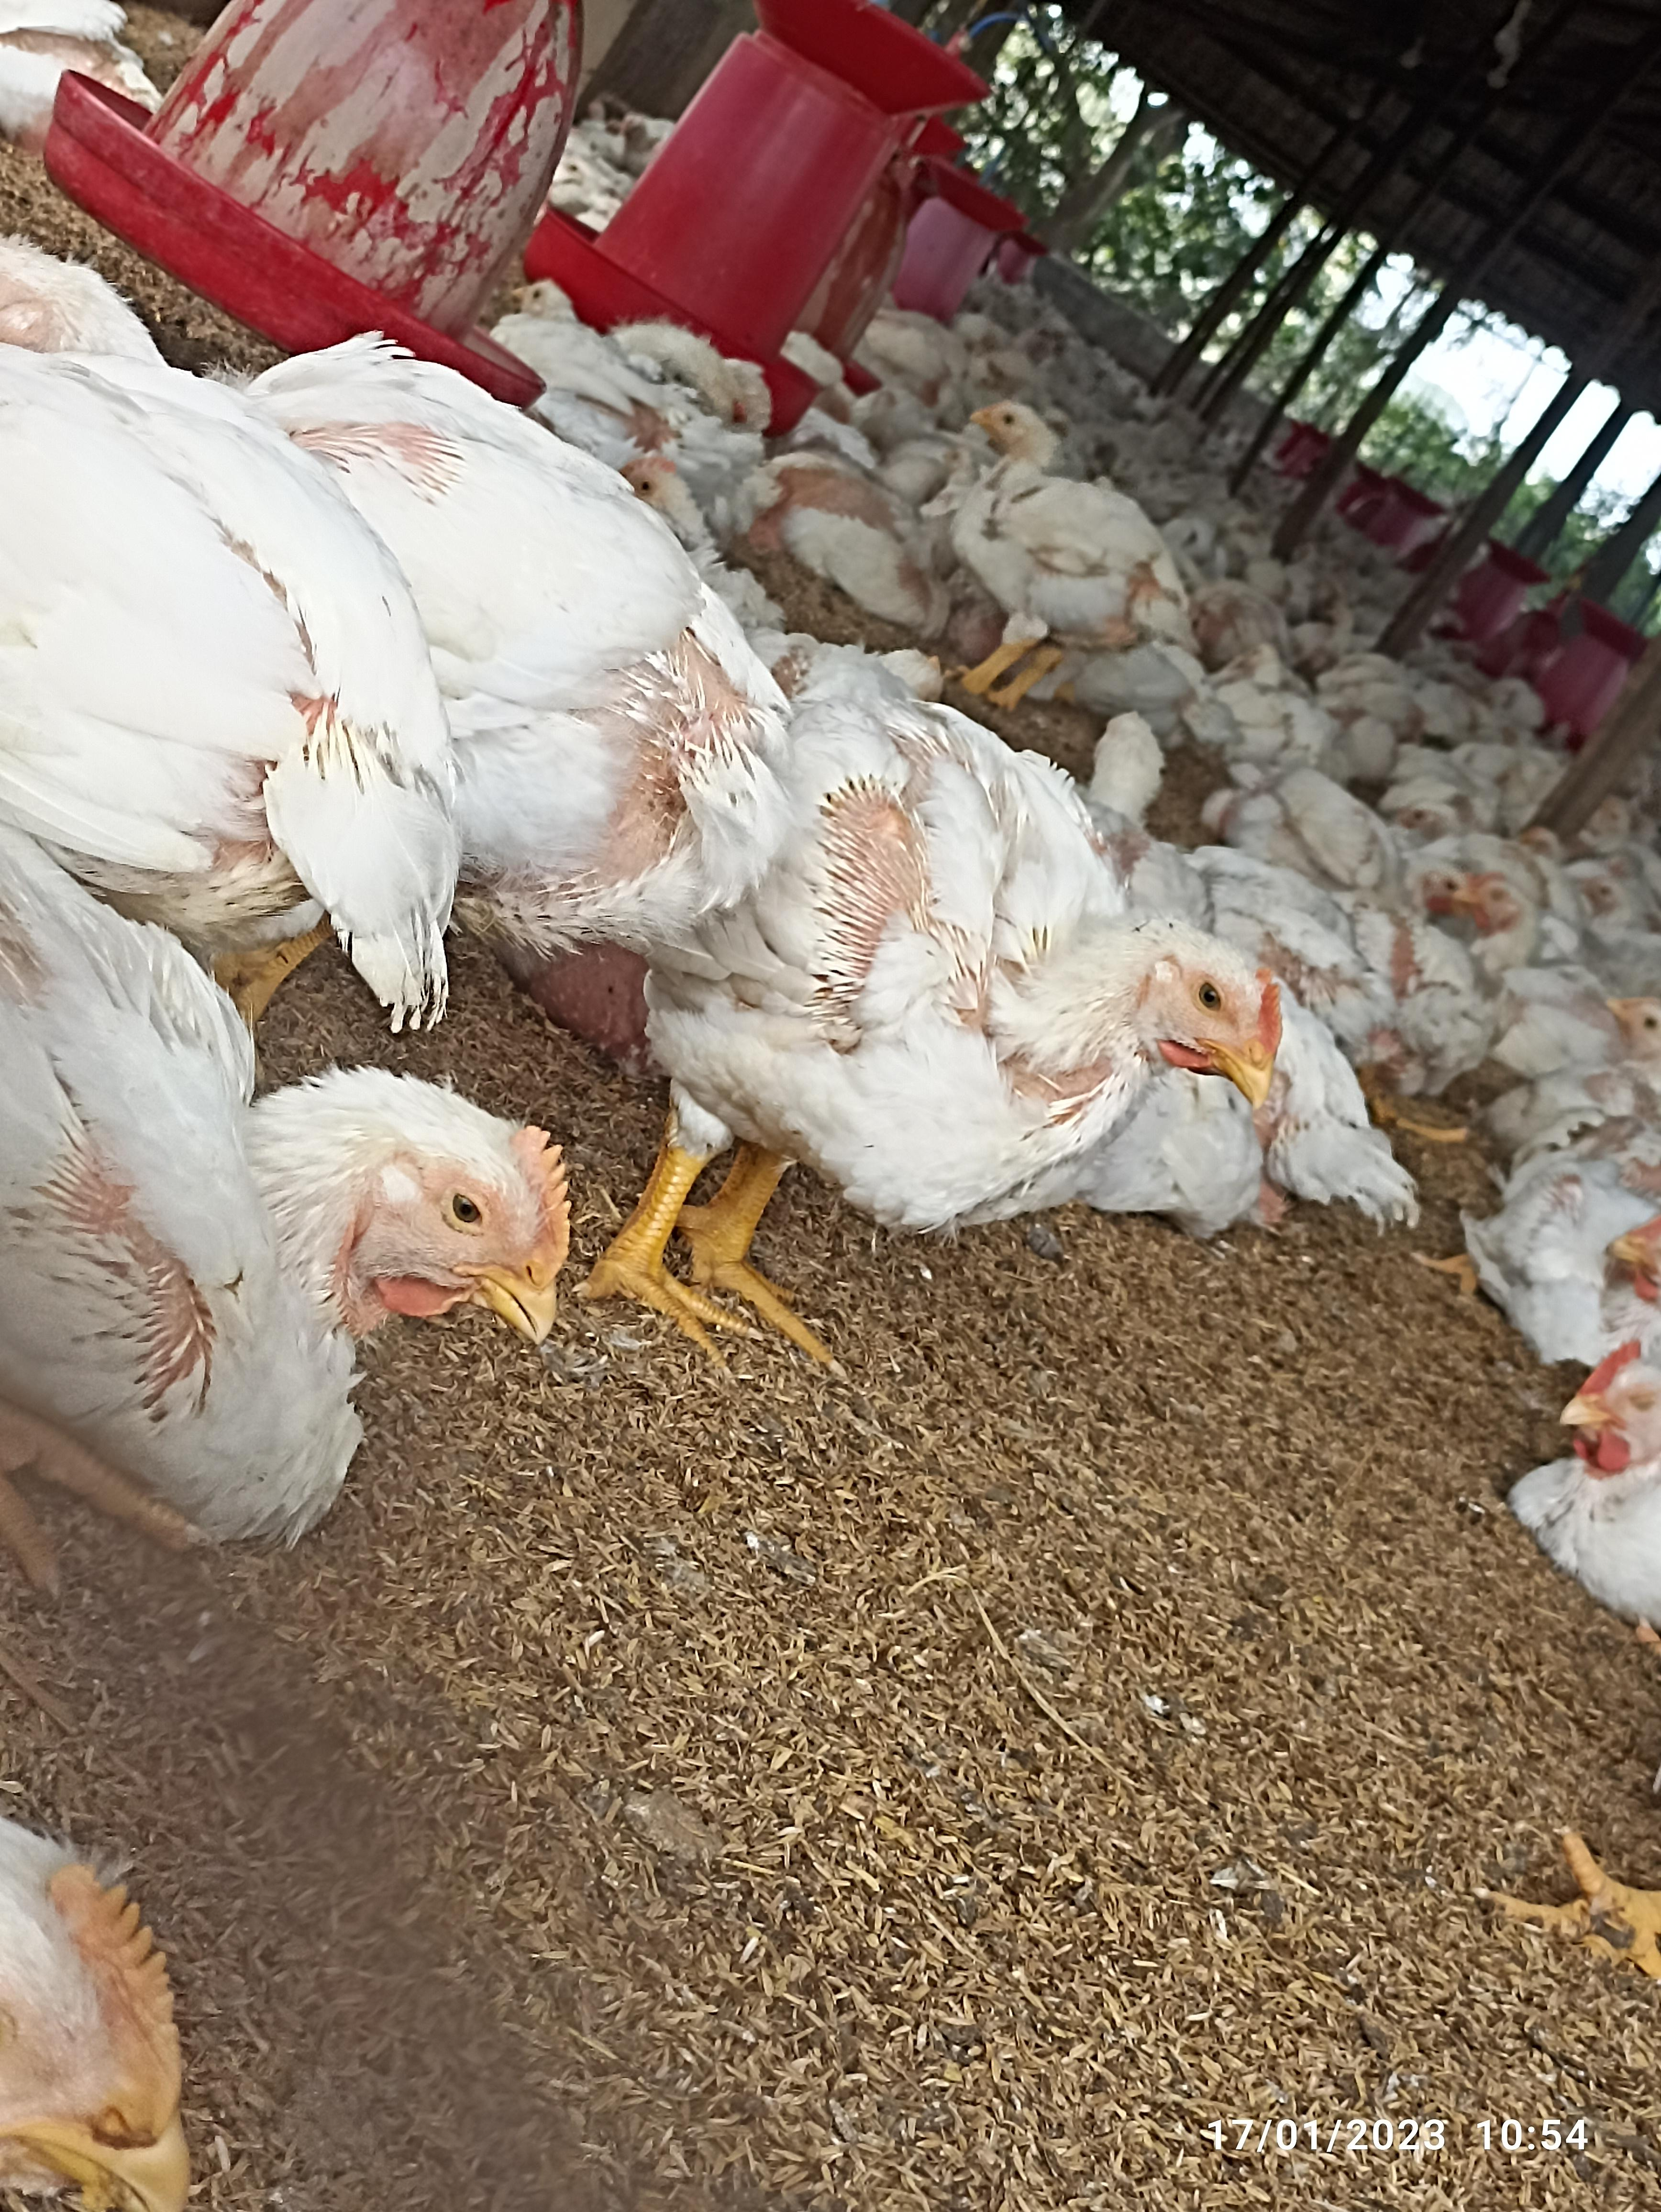Pollos: (673, 684, 1263, 1251), (0, 972, 576, 1521), (0, 372, 447, 944), (963, 398, 1190, 654), (487, 270, 710, 427), (1267, 766, 1480, 918)
